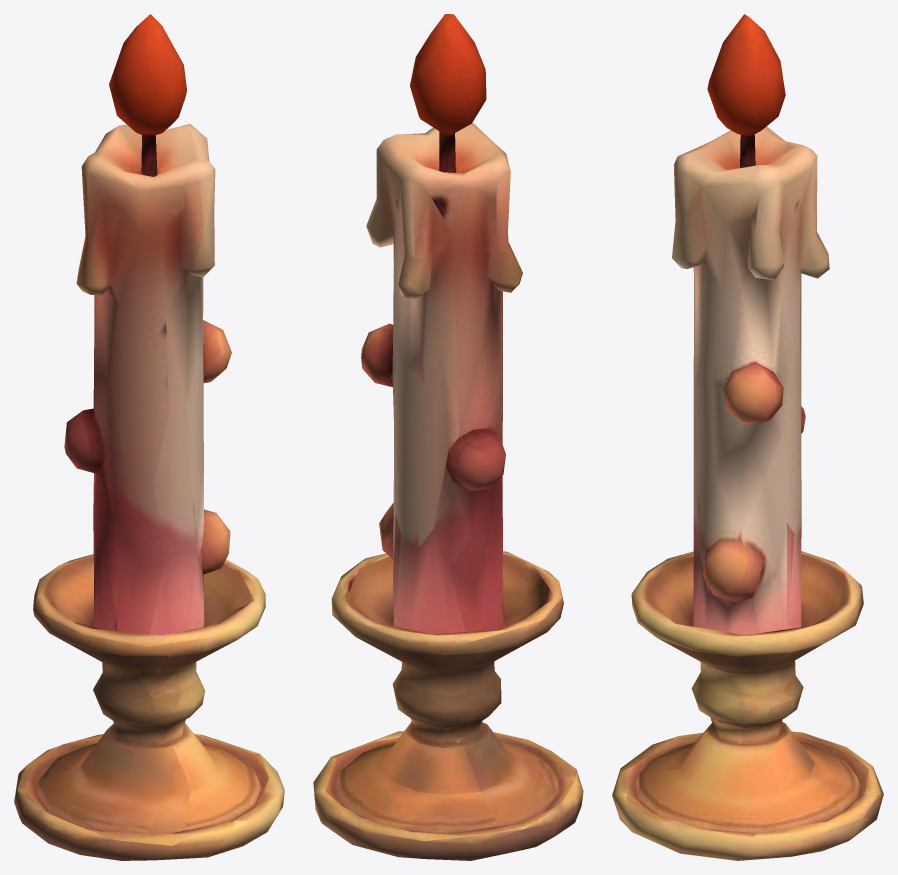
File: lg-first-candle.glb
3 renders of one model, left to right at view 1: azimuth 30°, elevation 25°; view 2: azimuth 150°, elevation 25°; view 3: azimuth 270°, elevation 25°, orthographic.
Parts seen in each view (by area): view 1: geometry_0; view 2: geometry_0; view 3: geometry_0.
Boxes of the visible parts, <box> form: geometry_0: <box>14,14,284,860</box>; geometry_0: <box>313,14,583,860</box>; geometry_0: <box>612,14,883,860</box>.
Size of the model in its own units: 0.3101 by 1 by 0.3118.
1 material, 1 textured.
